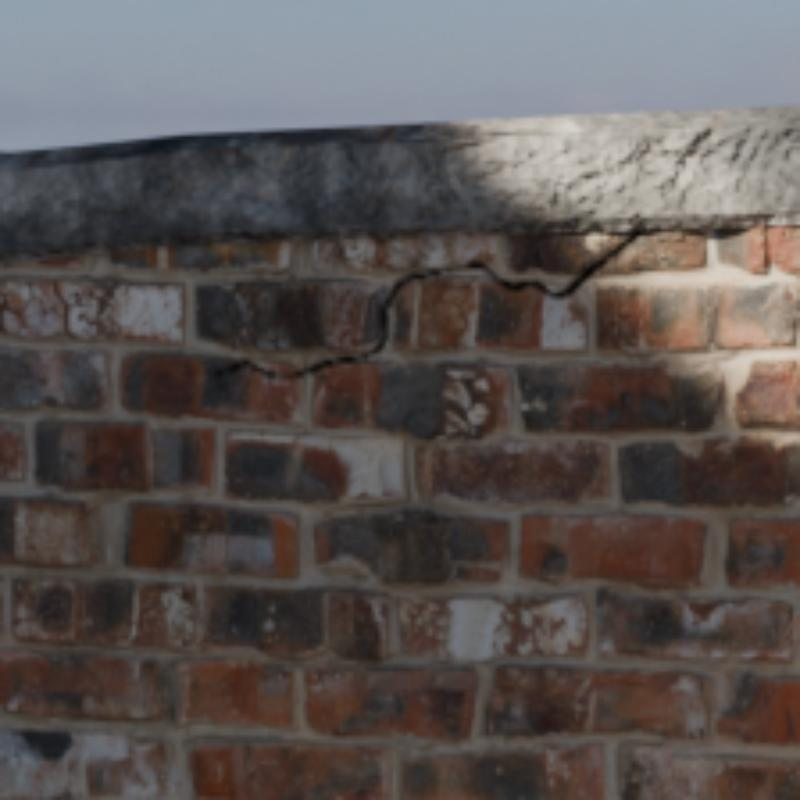crack: (384, 263, 548, 324), (548, 231, 644, 299), (291, 324, 387, 377), (50, 279, 79, 339), (209, 363, 291, 377)
